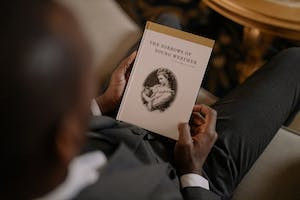book: (113, 19, 217, 142)
